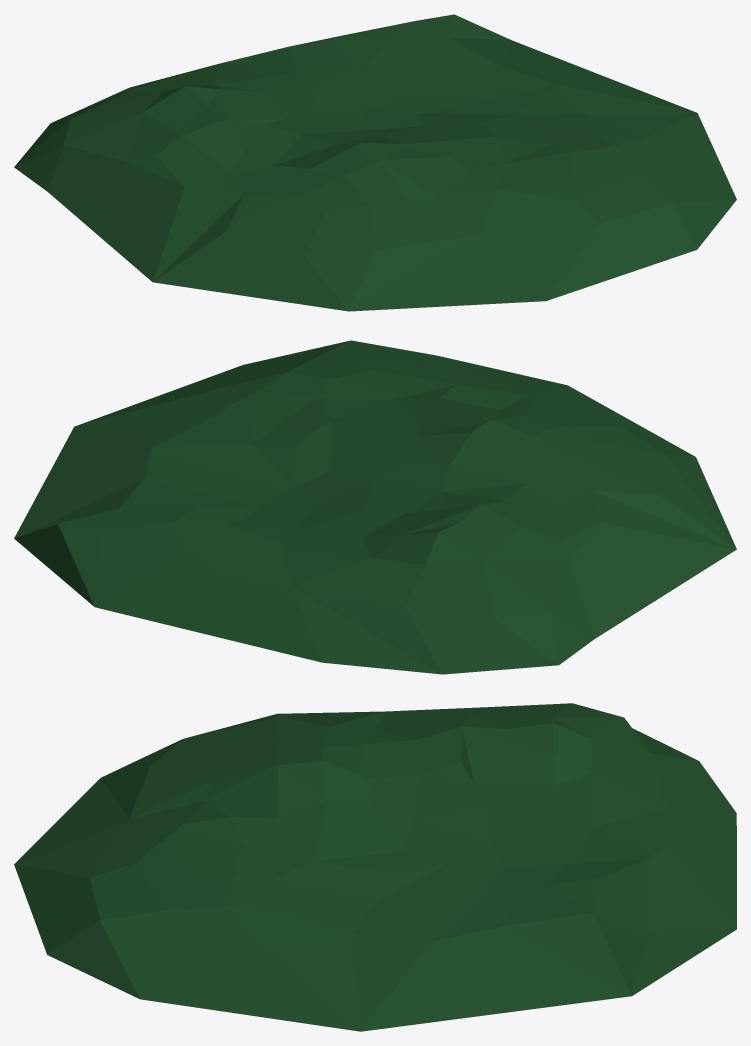
Rendered from Ground2.fbx.
The picture shows the model from 3 angles, top to bottom: view 1: azimuth 30°, elevation 25°; view 2: azimuth 150°, elevation 25°; view 3: azimuth 270°, elevation 25°; orthographic projection. The views are drawn at different scales.
Visible parts, largest first — view 1: Ground2; view 2: Ground2; view 3: Ground2.
Boxes of the visible parts, bbox=[...] form: Ground2: bbox=[14, 14, 736, 311]; Ground2: bbox=[14, 340, 736, 674]; Ground2: bbox=[14, 703, 736, 1031].
Size of the model in its own units: 43.64 by 4.93 by 41.94.
